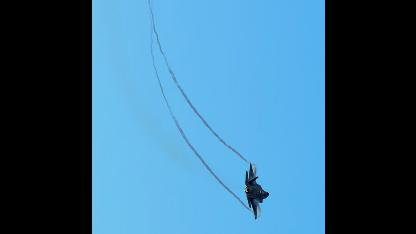F22: (244, 163, 268, 221)
